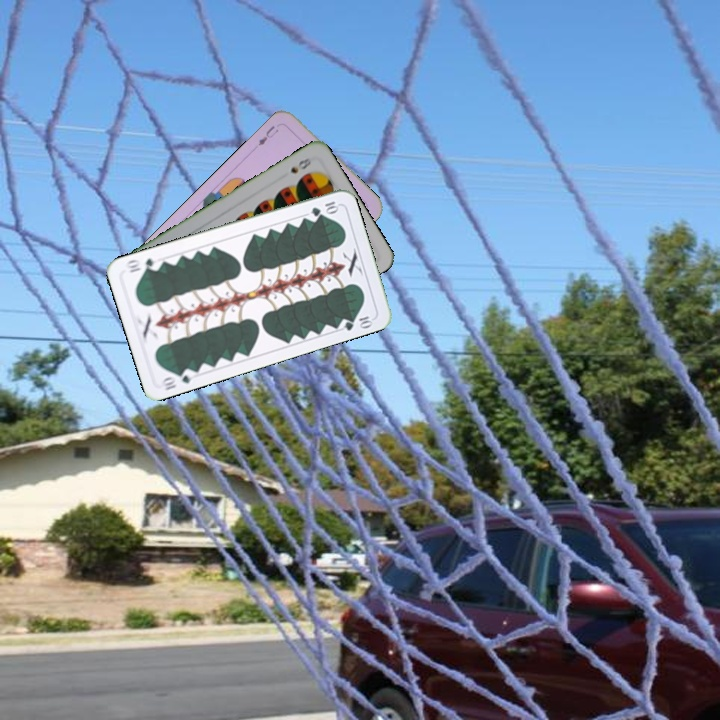EU: (254, 122, 281, 148)
G10: (158, 365, 198, 393), (307, 197, 341, 219)
S8: (286, 153, 314, 176)
